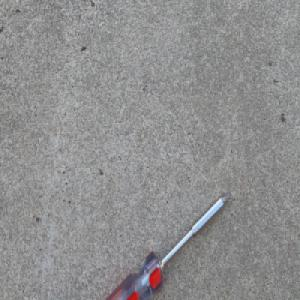Screwdriver: (101, 190, 232, 300)
